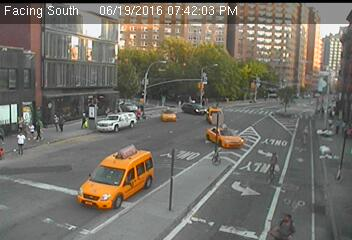neg: (207, 143, 229, 173), (316, 139, 336, 166), (246, 85, 265, 110), (334, 156, 351, 178), (279, 98, 295, 119)
pos: (6, 127, 31, 160), (29, 117, 48, 143), (76, 114, 89, 132)
